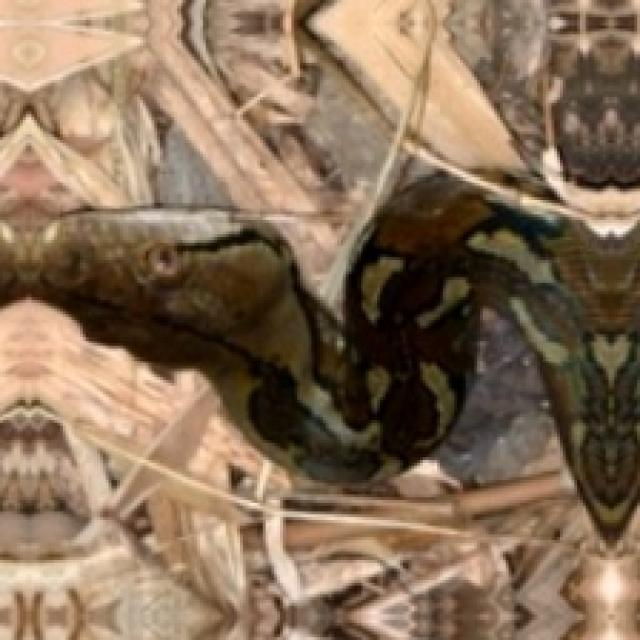reticulated python: (1, 178, 640, 539)
